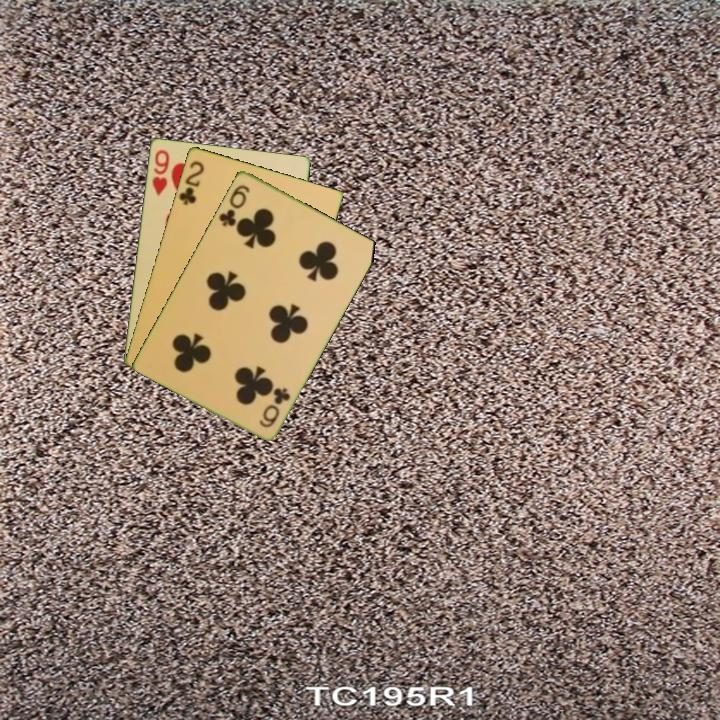2c: (175, 157, 207, 208)
6c: (215, 181, 253, 229), (255, 384, 293, 430)
9h: (148, 146, 172, 198)
